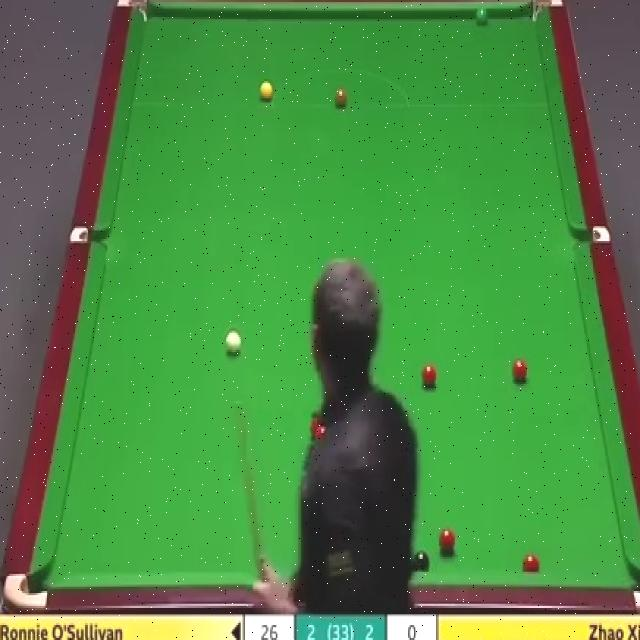black-ball: (413, 549, 430, 573)
brown-ball: (334, 85, 347, 107)
green-ball: (475, 3, 490, 24)
red-ball: (438, 529, 457, 557), (421, 360, 438, 390), (511, 358, 527, 385), (522, 552, 540, 571)
white-ball: (226, 329, 241, 355)
yellow-ball: (259, 83, 272, 101)
